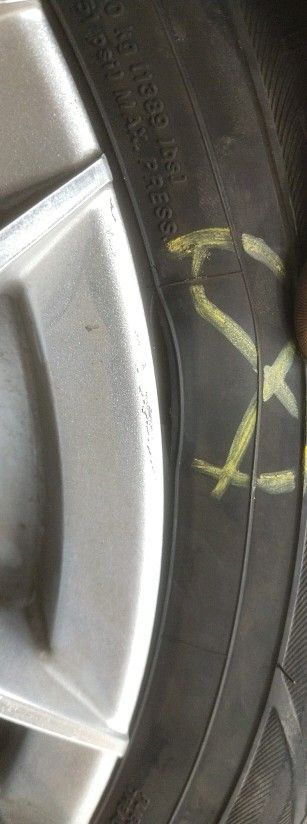CBU: (149, 263, 306, 473)
